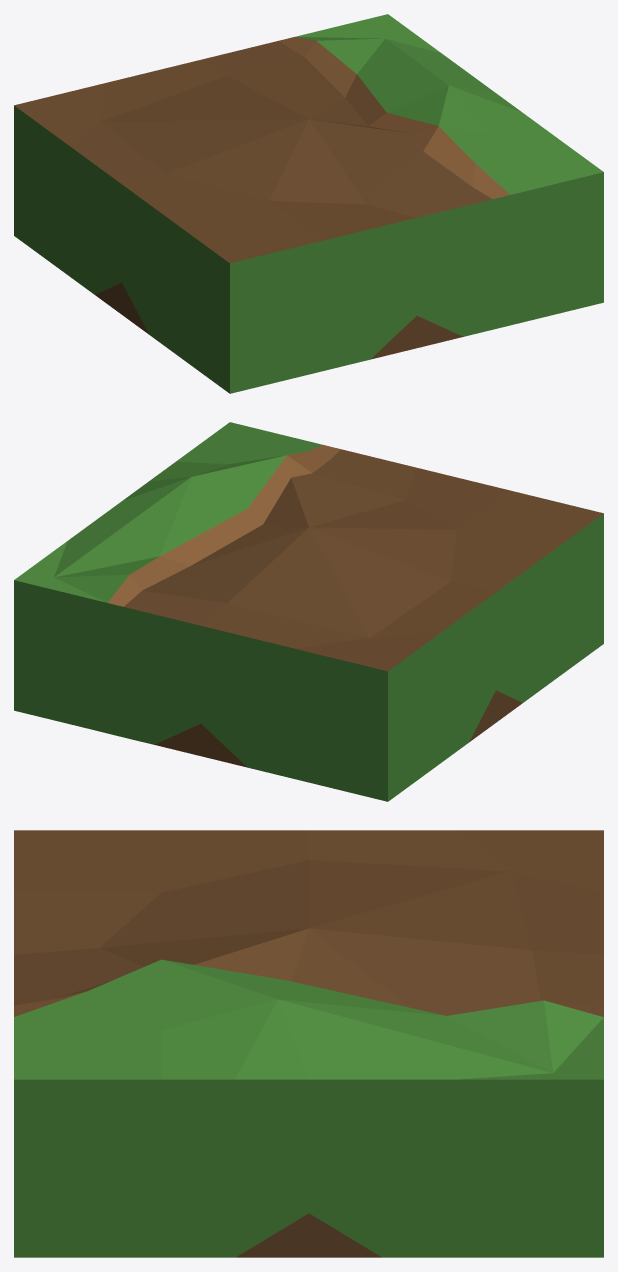
The model's file is grass_dirt_edge_3.fbx.
3 views of the same model, one above another, from view 1: azimuth 30°, elevation 25°; view 2: azimuth 150°, elevation 25°; view 3: azimuth 270°, elevation 25° (orthographic). The views are drawn at different scales.
Visible parts, largest first — view 1: Dirt_Grass_Edge_3; view 2: Dirt_Grass_Edge_3; view 3: Dirt_Grass_Edge_3.
Boxes of the visible parts, box(x1,y1,x2,y2) form: Dirt_Grass_Edge_3: box(14, 14, 603, 393); Dirt_Grass_Edge_3: box(14, 422, 603, 801); Dirt_Grass_Edge_3: box(14, 830, 603, 1257).
Bounding box in the file's own units: 300 × 147 × 300.
